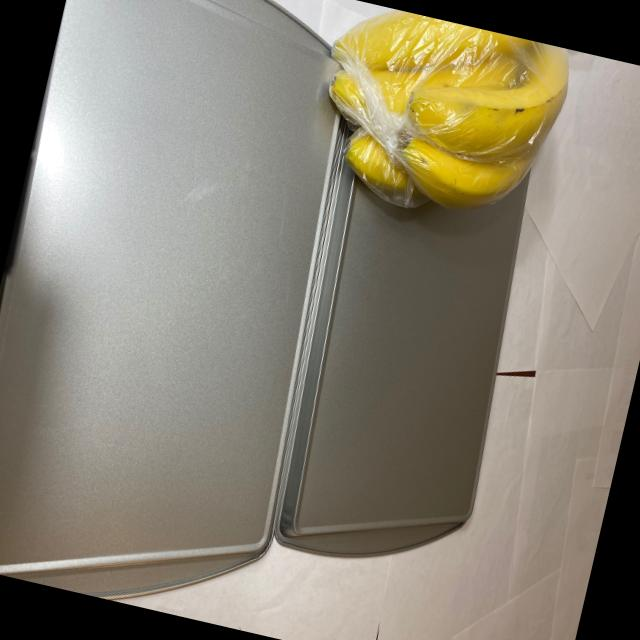banana: (291, 0, 580, 240)
